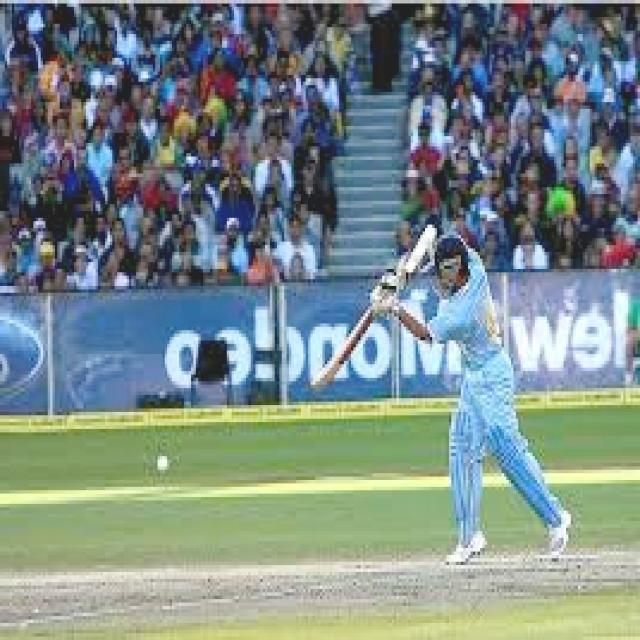bat: (296, 286, 395, 411)
